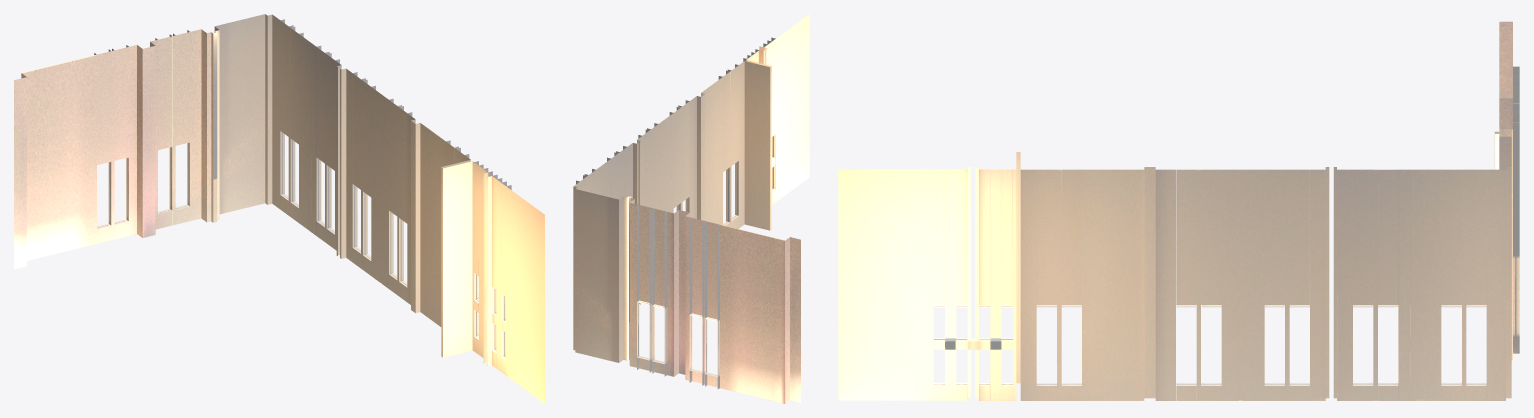
3 views of the same model, side by side, from view 1: azimuth 30°, elevation 25°; view 2: azimuth 150°, elevation 25°; view 3: azimuth 270°, elevation 25° (orthographic). The views are drawn at different scales.
Visible parts, largest first — view 1: 室内-二层墙体Part2; view 2: 室内-二层墙体Part2; view 3: 室内-二层墙体Part2.
Boxes of the visible parts, box(x1,y1,x2,y2) form: 室内-二层墙体Part2: box(14, 14, 544, 403); 室内-二层墙体Part2: box(573, 14, 809, 403); 室内-二层墙体Part2: box(838, 21, 1519, 400).
Bounding box in the file's own units: 16.55 × 11.26 × 30.05.
